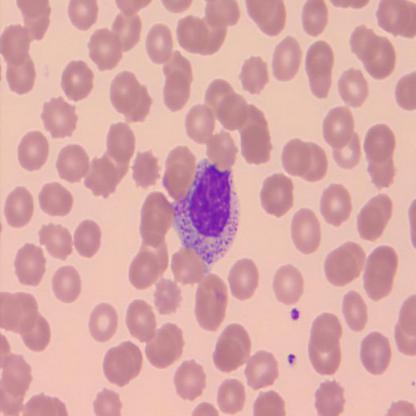Metamyelocyte: (172, 153, 244, 267)
